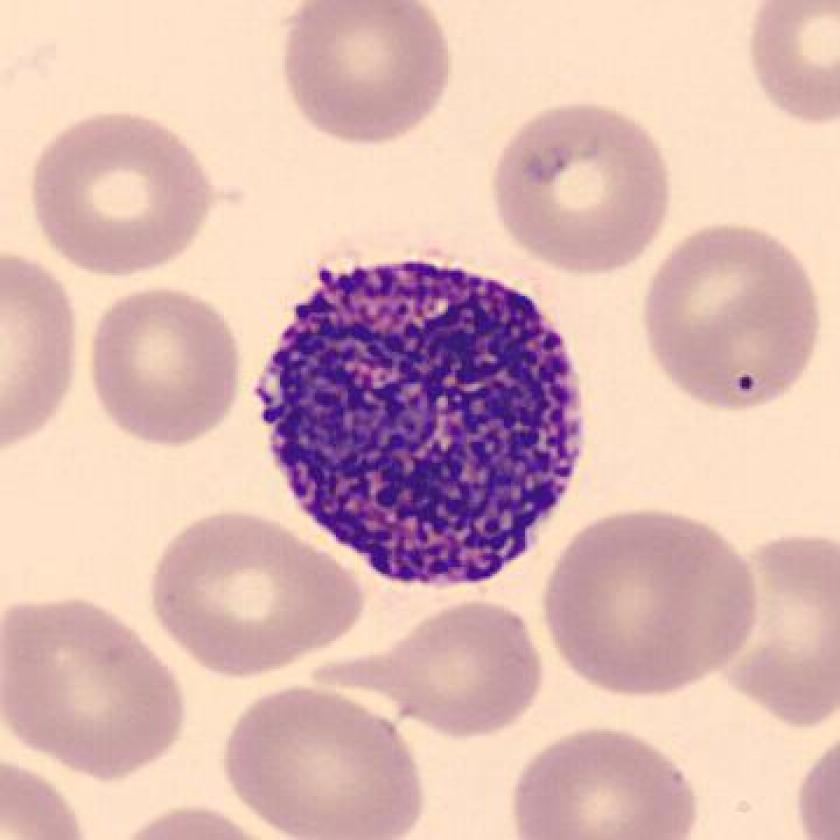basophil: (255, 251, 587, 589)
